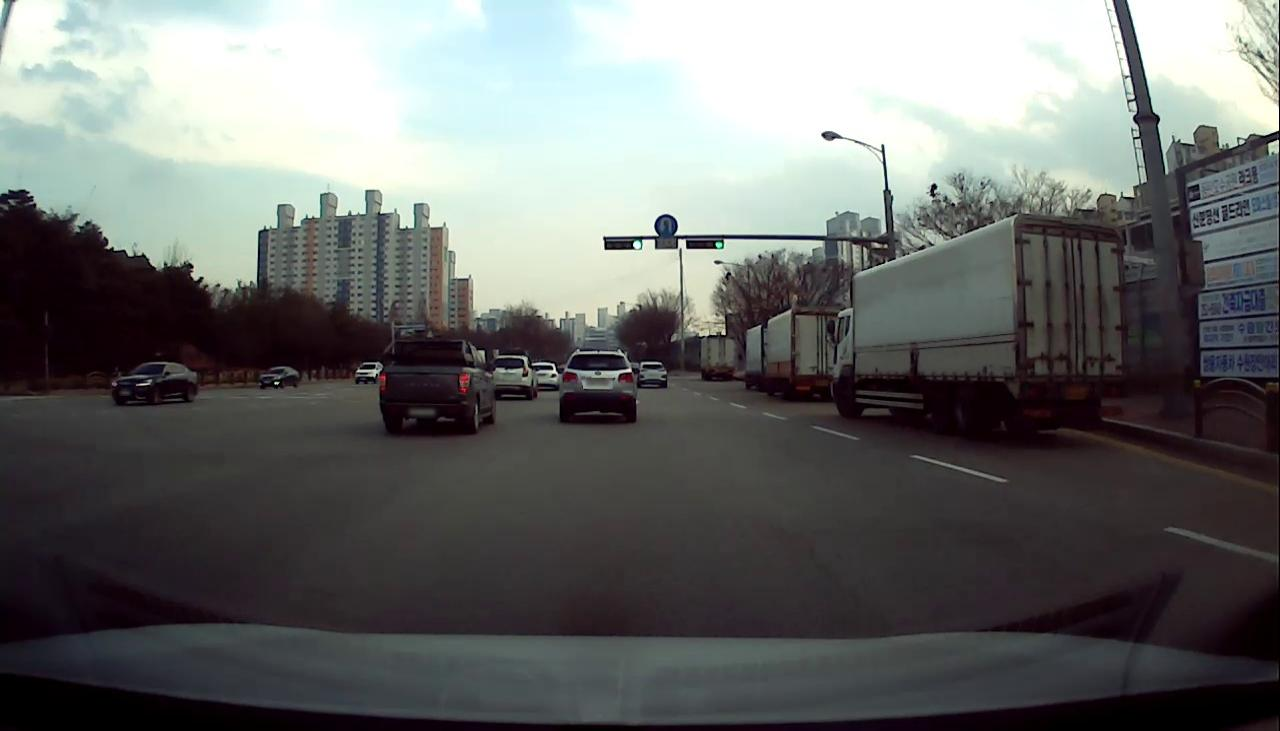Green Light: (632, 238, 643, 249), (714, 240, 723, 249)
